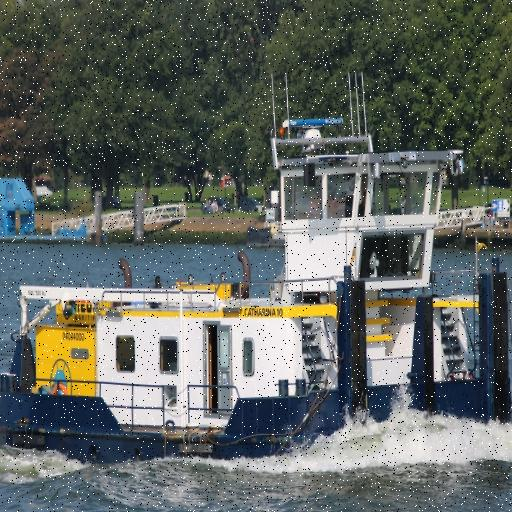tugboat: (1, 69, 512, 474)
